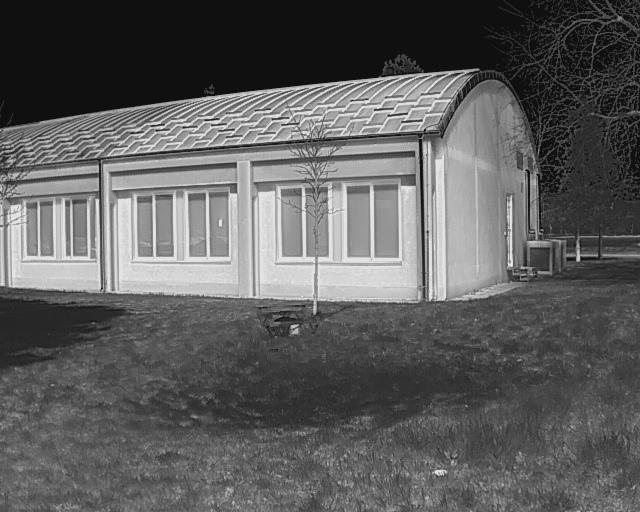drone: (246, 289, 334, 353)
